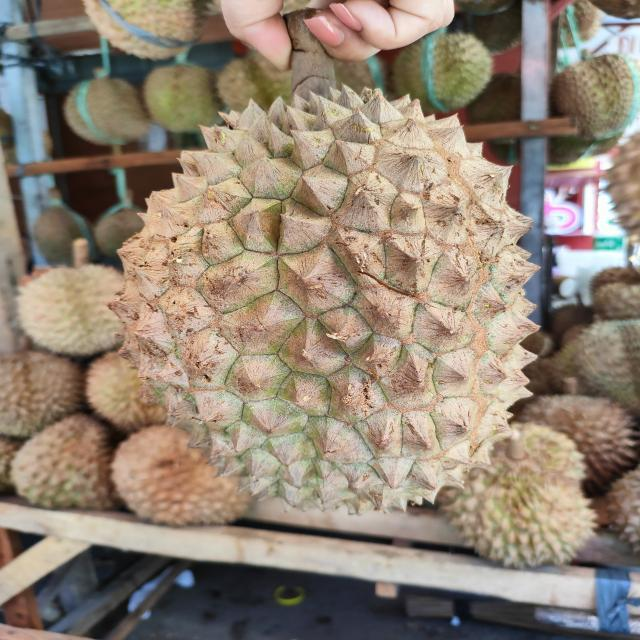mature: (103, 80, 541, 522)
